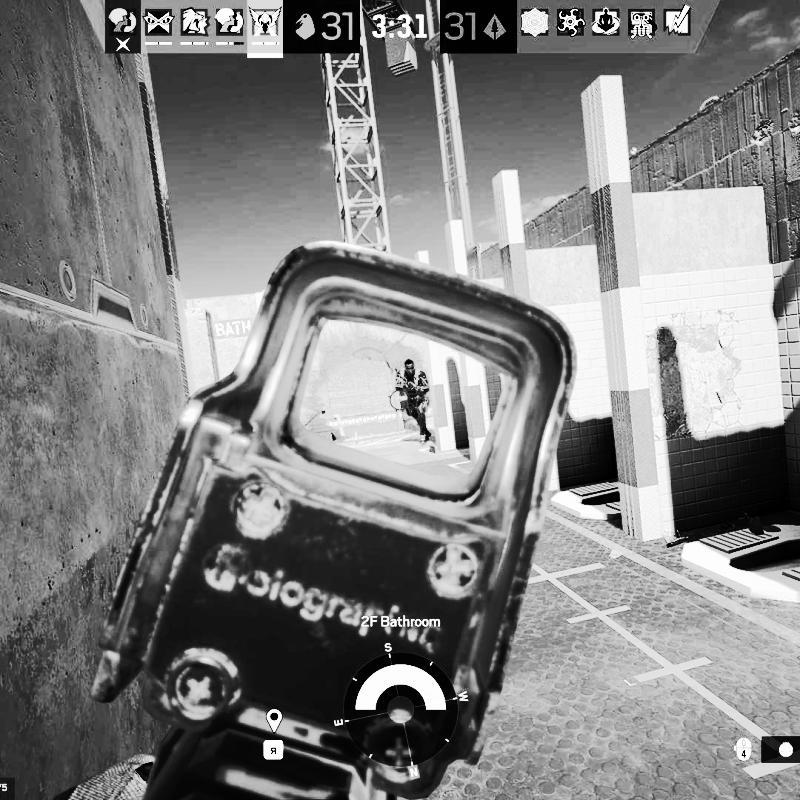Character: (392, 358, 434, 448)
Head: (404, 360, 416, 376)
